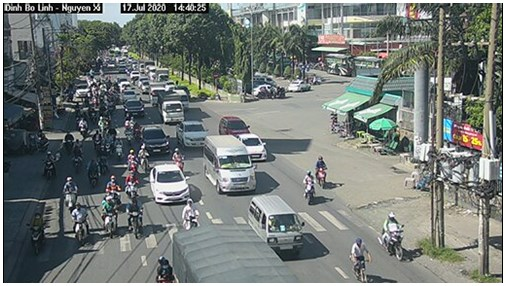xe_ban_tai: (174, 118, 209, 148)
xe_hoi: (246, 196, 302, 256), (148, 166, 193, 205), (140, 128, 172, 157), (217, 116, 254, 140), (121, 98, 149, 120)
xe_khach: (202, 136, 257, 194)
xe_may: (377, 208, 408, 261), (347, 236, 374, 284), (125, 194, 150, 240), (70, 202, 90, 248), (99, 195, 119, 241), (59, 173, 78, 211), (30, 209, 44, 256), (152, 250, 170, 283), (182, 196, 198, 230), (125, 147, 141, 180), (40, 150, 57, 181), (86, 156, 102, 188), (171, 145, 187, 175), (106, 172, 121, 202), (303, 170, 315, 207), (71, 139, 84, 171), (318, 153, 329, 190), (137, 145, 150, 175), (114, 134, 126, 162), (127, 171, 139, 198), (62, 130, 75, 152), (103, 130, 113, 158), (92, 128, 101, 154), (96, 116, 110, 132), (79, 116, 88, 138), (133, 120, 140, 142)
xe_tai: (156, 91, 184, 123)
